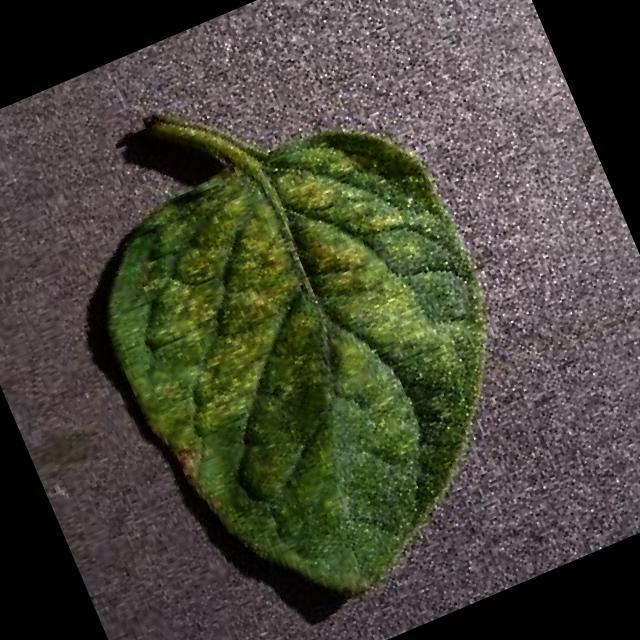Tomato spider mites leaf: (64, 94, 578, 640)
